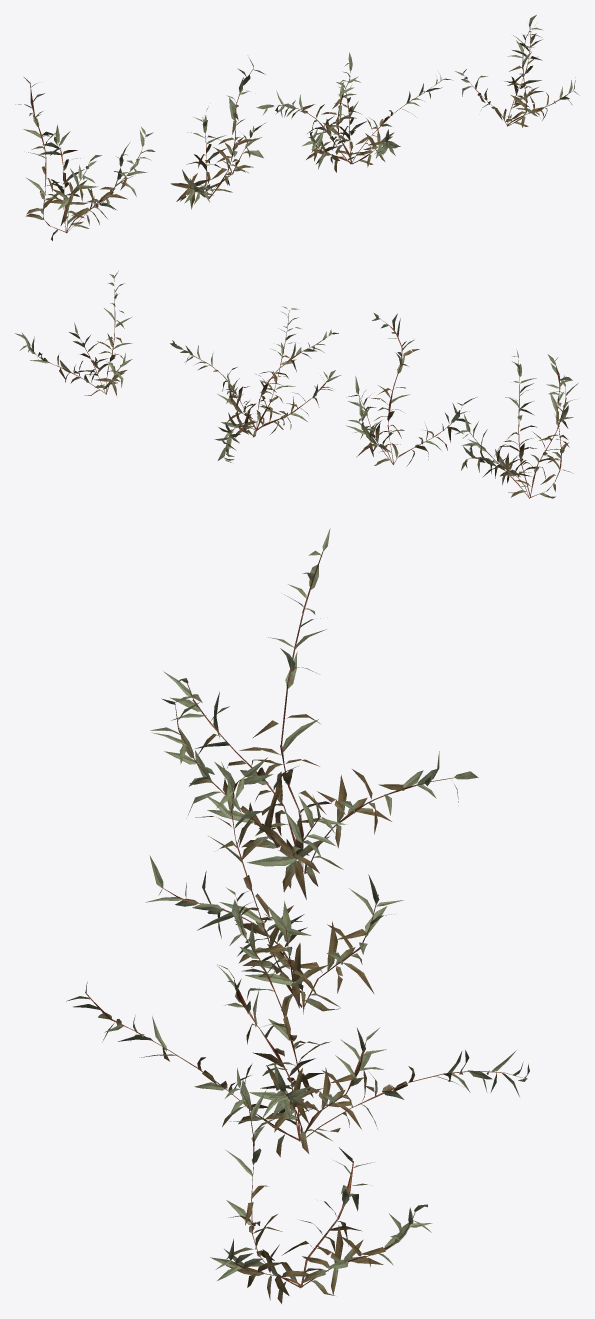
Rendered from shrub_02_audition.glb.
The picture shows the model from 3 angles, top to bottom: view 1: azimuth 30°, elevation 25°; view 2: azimuth 150°, elevation 25°; view 3: azimuth 270°, elevation 25°; orthographic projection. The views are drawn at different scales.
Visible parts, largest first — view 1: shrub_02_a, shrub_02_c, shrub_02_b, shrub_02_d; view 2: shrub_02_c, shrub_02_a, shrub_02_b, shrub_02_d; view 3: shrub_02_a, shrub_02_c, shrub_02_b, shrub_02_d.
Part boxes in pixels (x1,y1,x2,y2): shrub_02_a: [15, 77, 155, 240]; shrub_02_c: [256, 52, 452, 172]; shrub_02_b: [170, 58, 266, 209]; shrub_02_d: [455, 15, 579, 127]; shrub_02_c: [170, 306, 340, 462]; shrub_02_a: [455, 349, 578, 498]; shrub_02_b: [346, 313, 477, 465]; shrub_02_d: [15, 271, 132, 395]; shrub_02_a: [150, 528, 478, 899]; shrub_02_c: [66, 887, 529, 1157]; shrub_02_b: [145, 757, 403, 1016]; shrub_02_d: [210, 1068, 432, 1303].
Bounding box in the file's own units: 6.03 × 1.69 × 2.28.
Materials: 1 (1 with a texture image).
